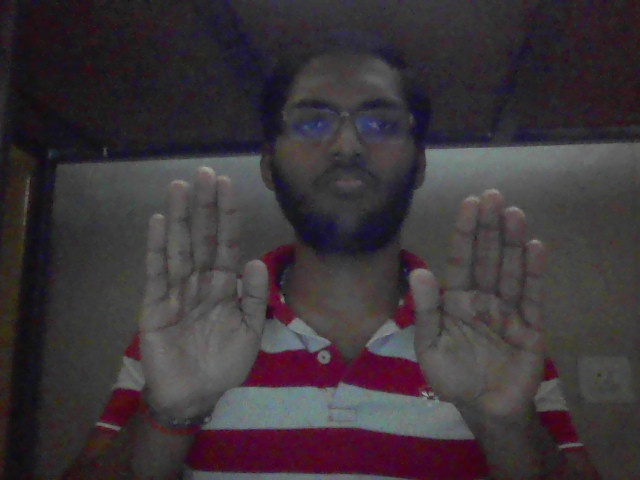God_Bless_You: (149, 160, 550, 470)
